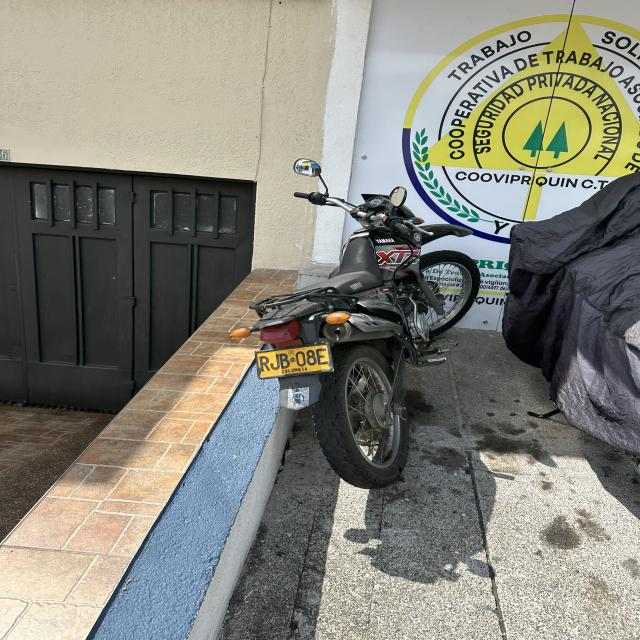number plate: (255, 342, 333, 379)
